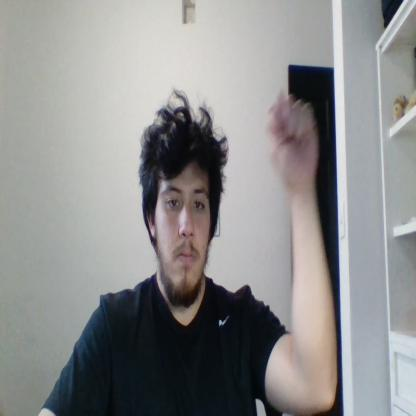T: (268, 86, 318, 186)
